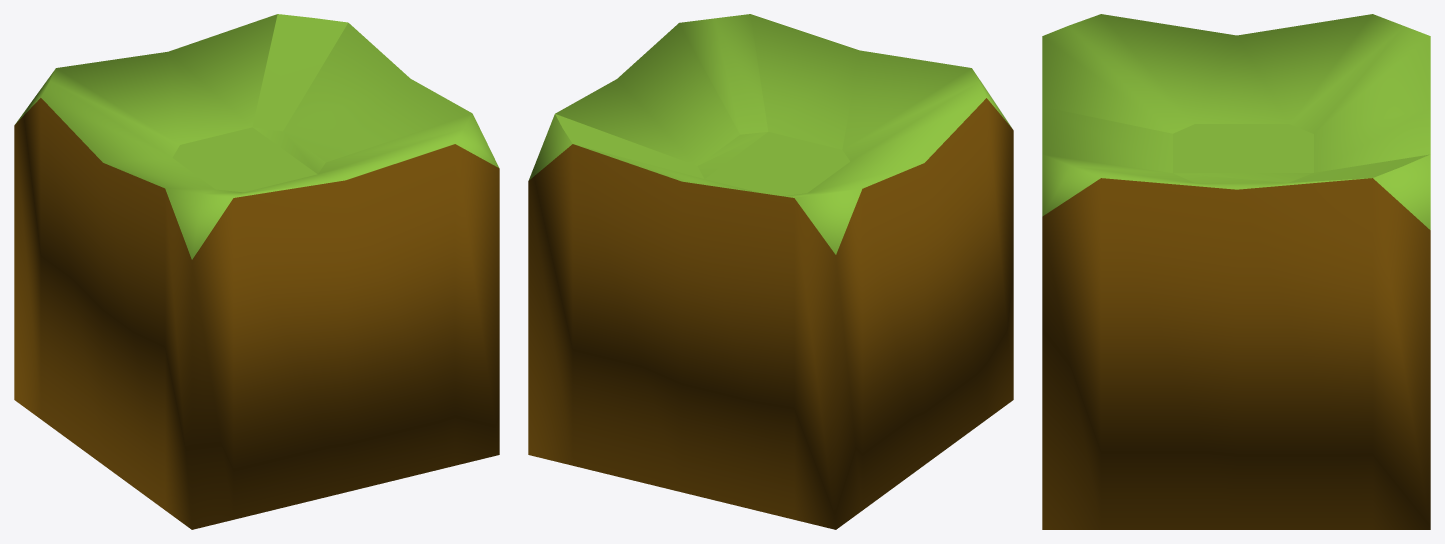
The picture shows the model from 3 angles, left to right: view 1: azimuth 30°, elevation 25°; view 2: azimuth 150°, elevation 25°; view 3: azimuth 270°, elevation 25°; orthographic projection. The views are drawn at different scales.
Parts seen in each view (by area): view 1: Cube; view 2: Cube; view 3: Cube.
Boxes of the visible parts, <box> form: Cube: <box>14,14,499,529</box>; Cube: <box>528,14,1013,529</box>; Cube: <box>1042,14,1430,529</box>.
Bounding box in the file's own units: 100 × 100 × 100.
